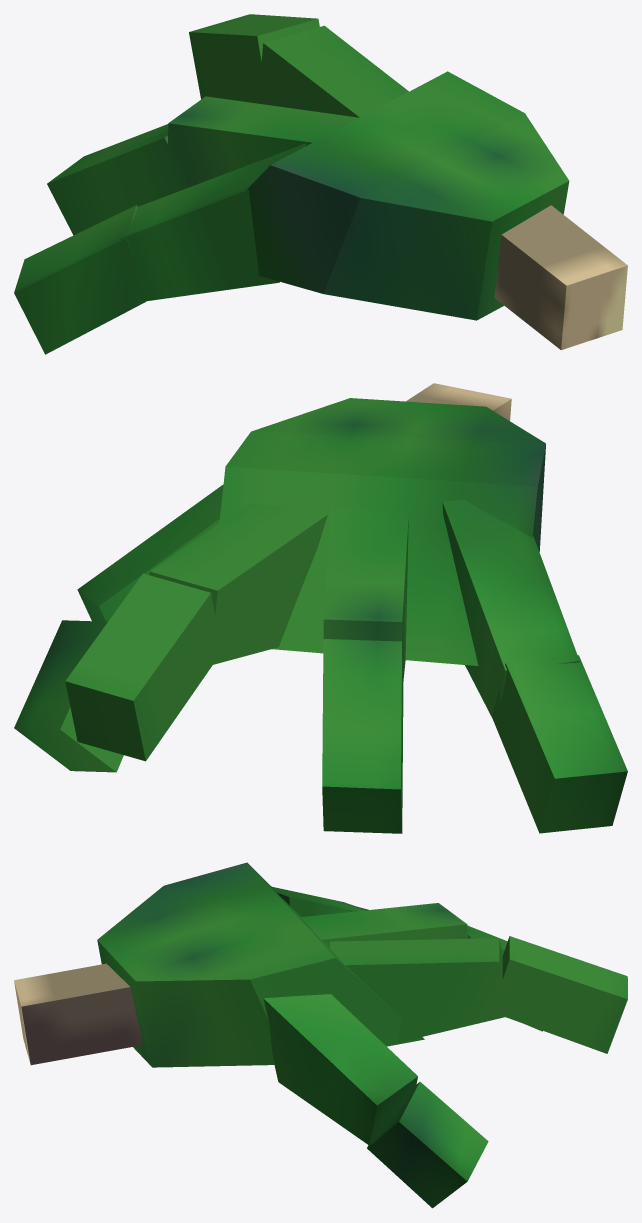
File: Hand.fbx
The picture shows the model from 3 angles, top to bottom: view 1: azimuth 30°, elevation 25°; view 2: azimuth 150°, elevation 25°; view 3: azimuth 270°, elevation 25°; orthographic projection. The views are drawn at different scales.
Visible parts, largest first — view 1: Cube.034; view 2: Cube.034; view 3: Cube.034.
Boxes of the visible parts, box(x1,y1,x2,y2) form: Cube.034: box(14, 14, 627, 354); Cube.034: box(14, 383, 627, 833); Cube.034: box(14, 862, 627, 1208).
Size of the model in its own units: 107 by 50.42 by 130.
1 material, 1 textured.
